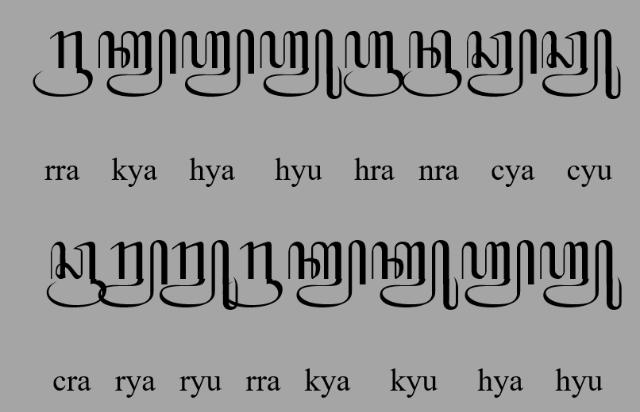cr: (46, 241, 106, 309)
cy: (467, 28, 538, 98)
cyu: (540, 28, 622, 100)
hr: (343, 30, 405, 98)
hy: (181, 29, 255, 97), (461, 240, 535, 308)
hyu: (539, 240, 623, 312), (259, 30, 343, 100)
ky: (97, 28, 177, 98), (288, 239, 367, 309)
kyu: (371, 240, 459, 312)
nr: (401, 30, 463, 98)
rr: (222, 241, 284, 309), (32, 30, 92, 98)
ry: (98, 240, 168, 308)
ryu: (160, 239, 238, 311)
